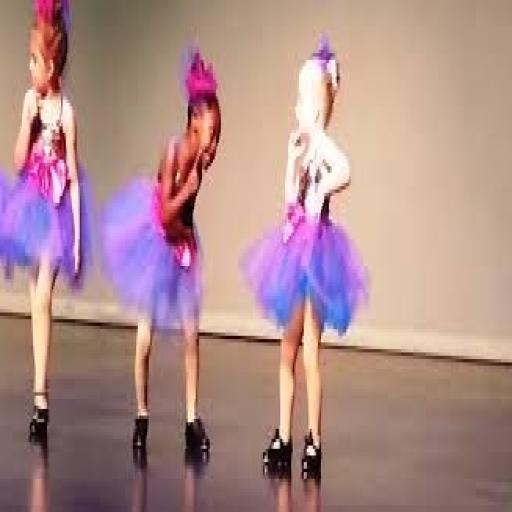dancing: (238, 33, 371, 489), (99, 46, 224, 468), (0, 0, 88, 449)
